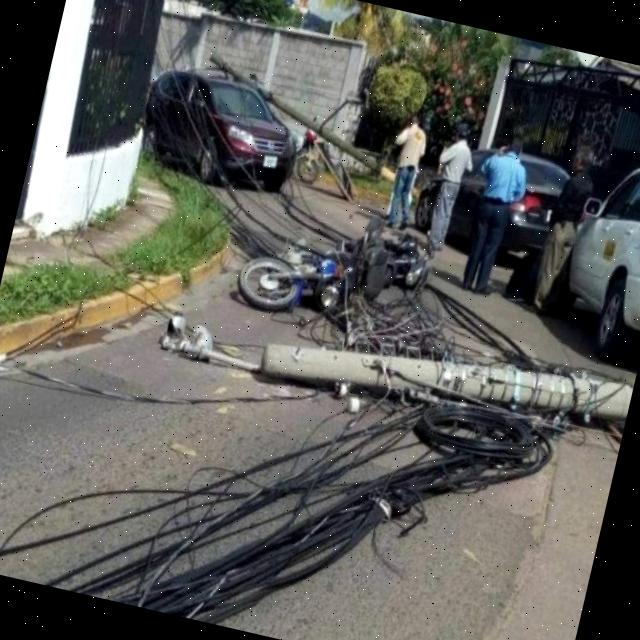Broken Pole: (246, 324, 627, 540)
